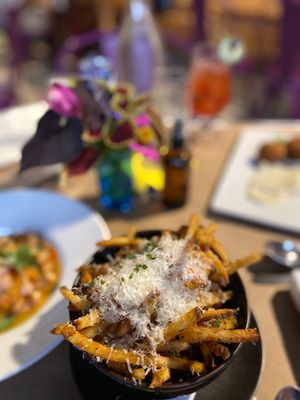sushi: (0, 186, 112, 361)
